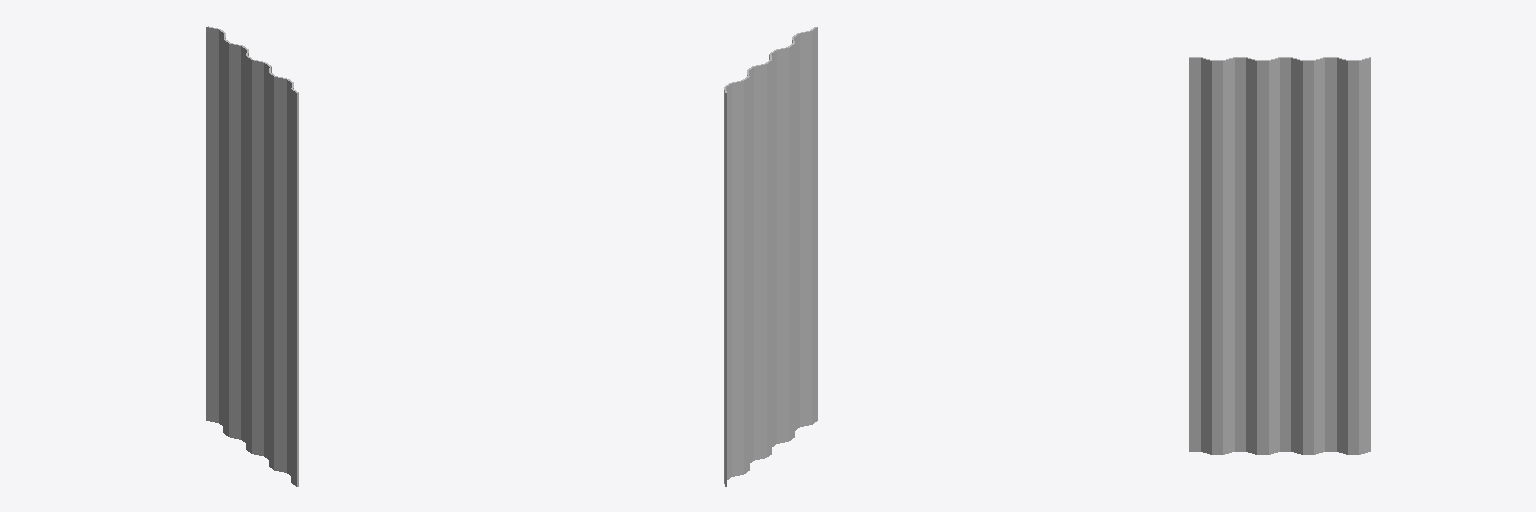
Rendered from floor.obj.
The picture shows the model from 3 angles: view 1: azimuth 30°, elevation 25°; view 2: azimuth 150°, elevation 25°; view 3: azimuth 270°, elevation 25°; orthographic projection.
Visible parts, largest first — view 1: Object_TexMap; view 2: Object_TexMap; view 3: Object_TexMap.
Boxes of the visible parts, <box> form: Object_TexMap: <box>206,26,298,486</box>; Object_TexMap: <box>724,27,817,486</box>; Object_TexMap: <box>1189,57,1370,454</box>.
Size of the model in its own units: 0.057 by 2.5 by 1.04.